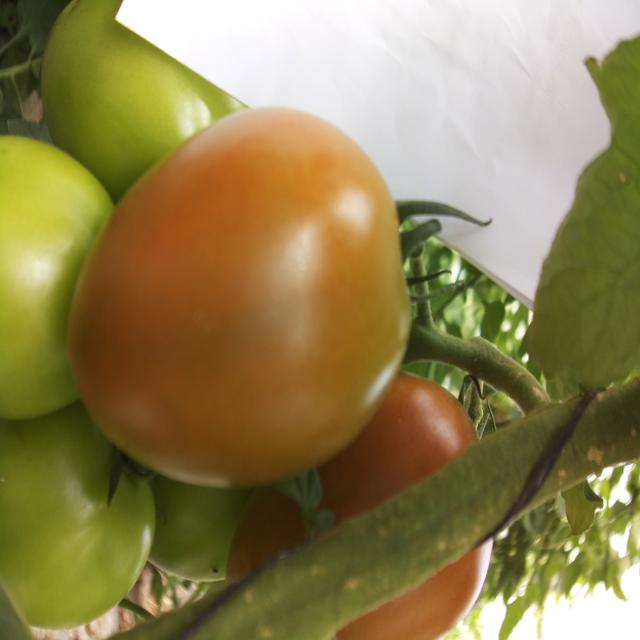sari: (62, 88, 440, 495)
